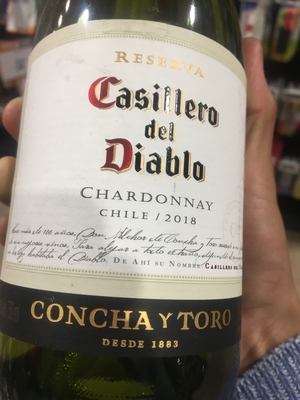casillero del diablo chardonnay: (9, 19, 257, 400)
